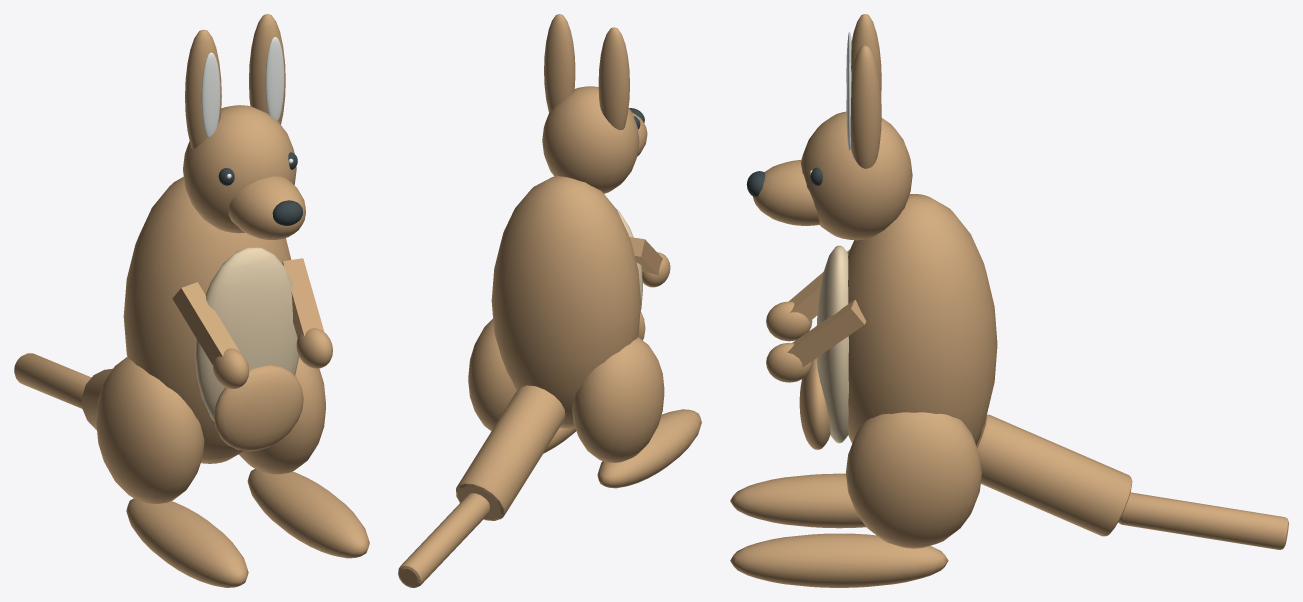
Rendered from city-kangaroo.glb.
3 renders of one model, left to right at view 1: azimuth 30°, elevation 25°; view 2: azimuth 150°, elevation 25°; view 3: azimuth 270°, elevation 25°, orthographic. The views are drawn at different scales.
Parts seen in each view (by area): view 1: Animal_kangaroo; view 2: Animal_kangaroo; view 3: Animal_kangaroo.
Part boxes in pixels (box(x1,y1,x2,y2)): Animal_kangaroo: box(14, 14, 369, 587); Animal_kangaroo: box(398, 14, 701, 587); Animal_kangaroo: box(730, 14, 1288, 587).
Size of the model in its own units: 1.88 by 4.5 by 4.35.
